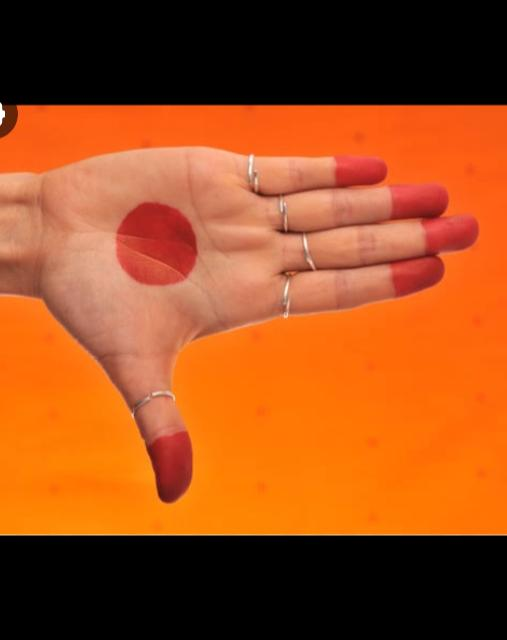ardhachandra: (19, 108, 507, 534)
